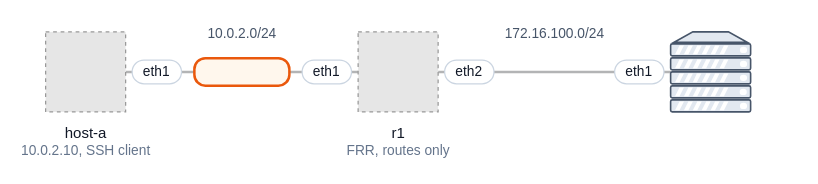
Some shapes in this 818 by 184 pixel diagram are drawn without their labels. Grey dashed boxes stand in for pictures. The box of each missing label's shape, as (x1, y1, x2, y2) in pixels:
capture: (192, 56, 290, 86)
host-b 172.16.100.20, sshd port 22: (669, 30, 751, 112)
